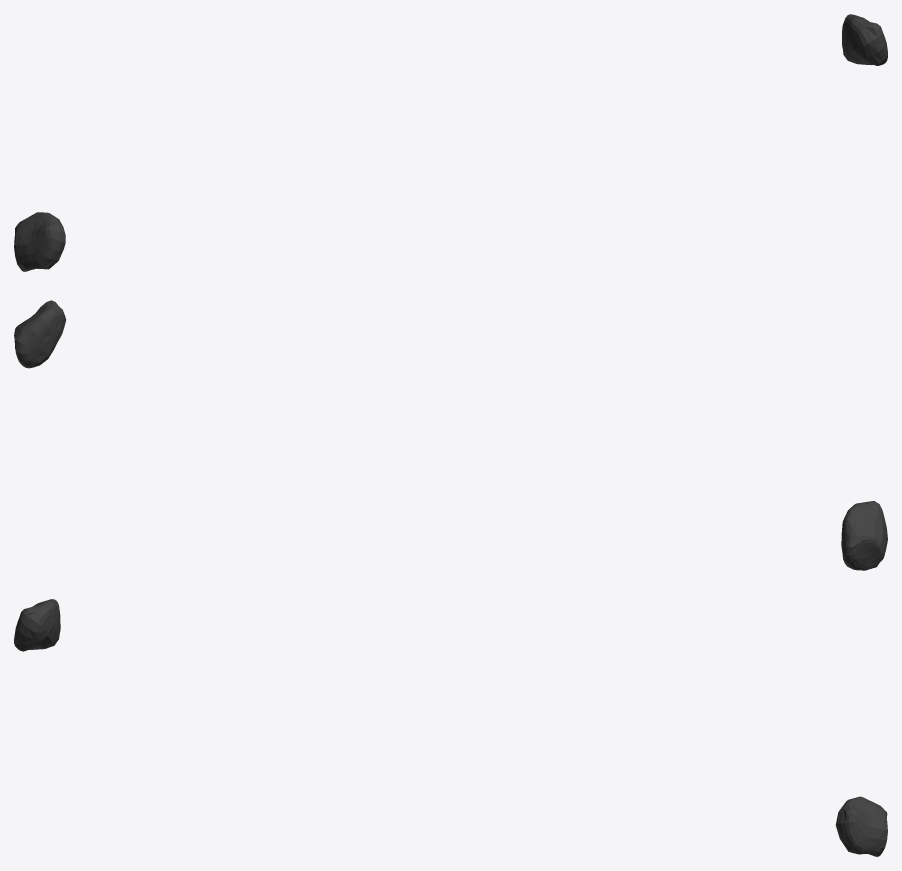
File: Metatarsal_first_1.glb
The picture shows the model from 3 angles, top to bottom: view 1: azimuth 30°, elevation 25°; view 2: azimuth 150°, elevation 25°; view 3: azimuth 330°, elevation 25°; orthographic projection.
Visible parts, largest first — view 1: Metatarsal_first_1; view 2: Metatarsal_first_1; view 3: Metatarsal_first_1.
Part boxes in pixels (left/top/right/bottom): Metatarsal_first_1: left=14, top=14, right=887, bottom=271; Metatarsal_first_1: left=14, top=300, right=887, bottom=570; Metatarsal_first_1: left=14, top=599, right=887, bottom=856.
Size of the model in its own units: 0.00413 by 0.00025 by 0.000291.
Materials: 1 (1 with a texture image).
